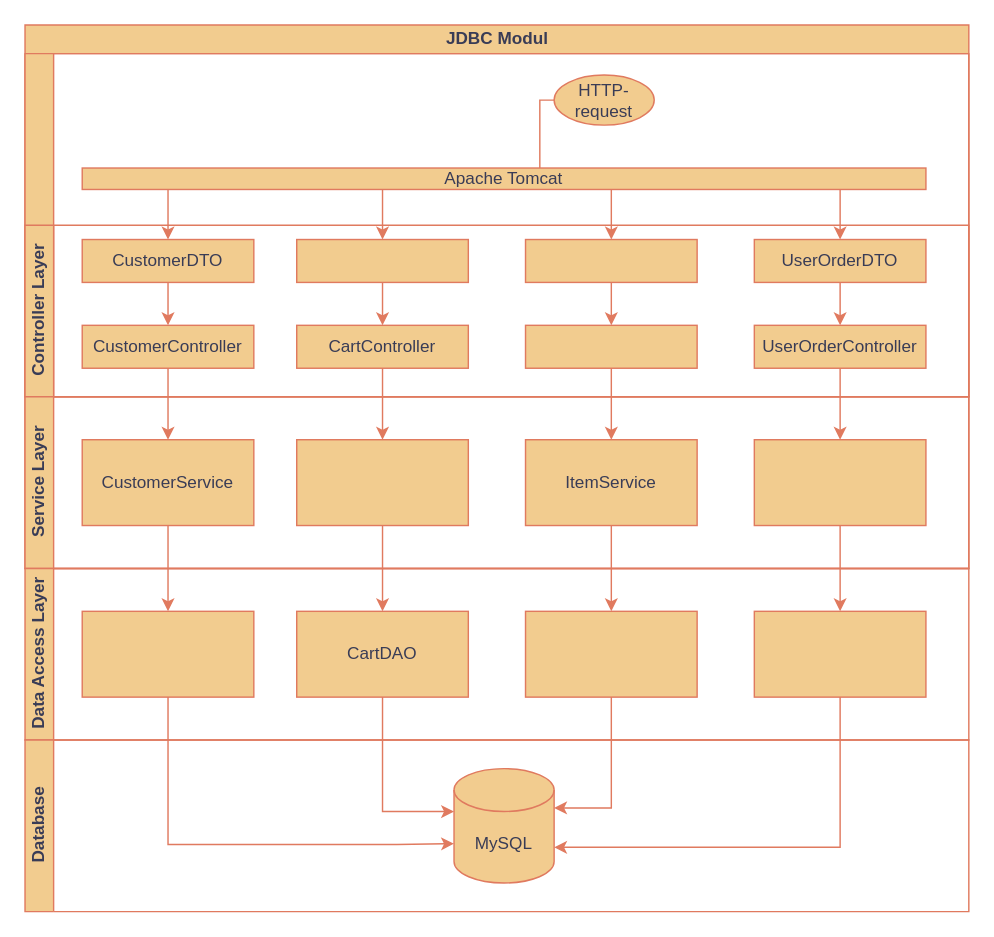
Some shapes in this 994 by 937 pixel diagram are drawn without their labels. The shapes that lost their labels are listed below. From the top down, each one's centre as x and y in pixels, then its label:
At point 381,260: "CartDTO".
At point 610,260: "ItemDTO".
At point 610,346: "ItemController".
At point 381,482: "CartService".
At point 839,482: "UserOrderService".
At point 167,653: "CustomertDAO".
At point 610,653: "ItemDAO".
At point 839,653: "UserOrderDAO".
